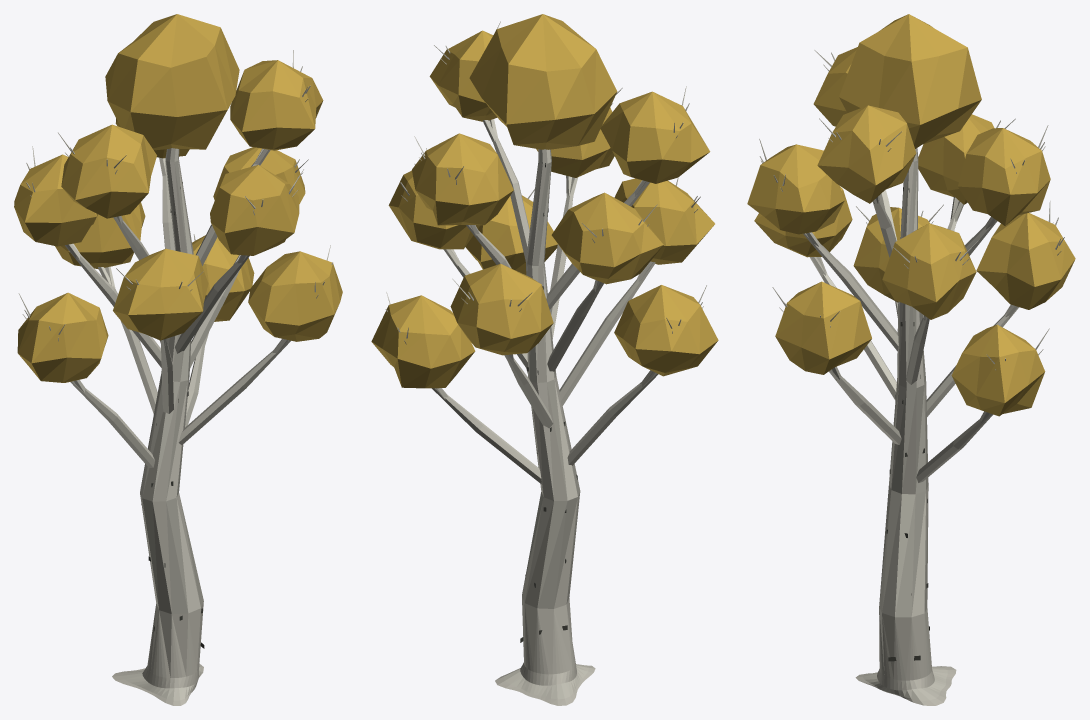
Rendered from birch_autumn.glb.
The picture shows the model from 3 angles, left to right: view 1: azimuth 30°, elevation 25°; view 2: azimuth 150°, elevation 25°; view 3: azimuth 270°, elevation 25°; orthographic projection.
Visible parts, largest first — view 1: leaves, branches; view 2: leaves, branches; view 3: leaves, branches.
Part boxes in pixels (bbox=[...]): leaves: bbox=[14, 14, 342, 382]; branches: bbox=[18, 50, 332, 705]; leaves: bbox=[371, 14, 718, 388]; branches: bbox=[385, 21, 706, 705]; leaves: bbox=[747, 14, 1075, 416]; branches: bbox=[759, 50, 1064, 705].
Bounding box in the file's own units: 2.7 × 5.7 × 2.51.
